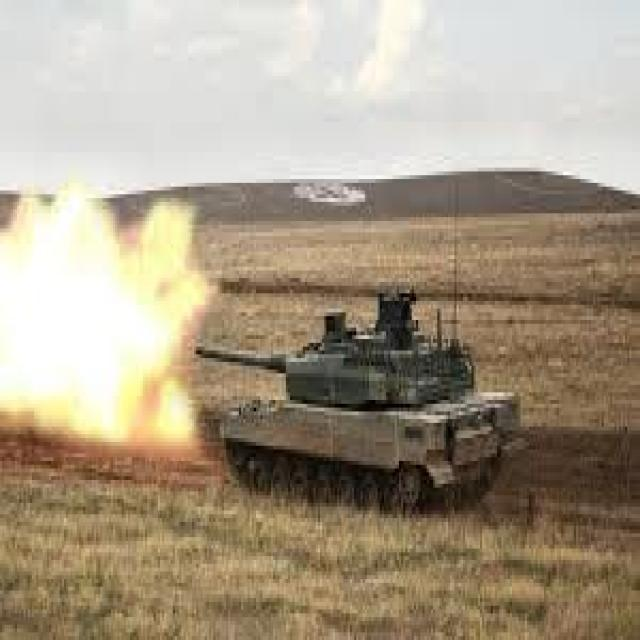MIL_MBT: (211, 288, 521, 490)
